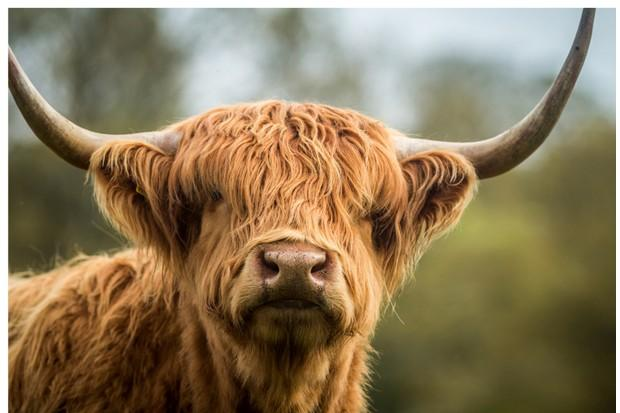muzzles: (233, 239, 345, 339)
